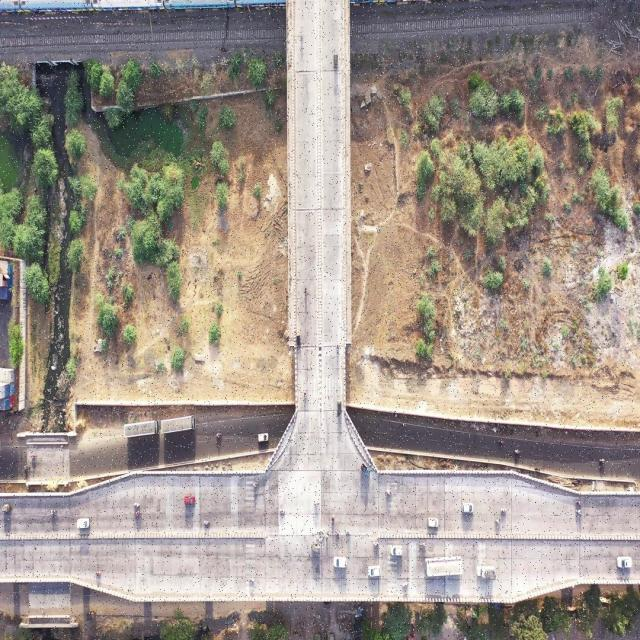3W: (310, 543, 321, 556), (332, 52, 338, 71), (337, 399, 344, 415), (0, 502, 11, 512), (86, 609, 95, 621), (296, 332, 302, 349), (322, 602, 331, 612)
Bus: (424, 557, 464, 578)
Cars: (617, 553, 634, 572), (366, 562, 382, 577), (333, 555, 348, 570), (76, 516, 90, 530), (390, 544, 404, 558), (461, 503, 475, 516), (184, 494, 196, 506), (428, 517, 439, 530), (257, 433, 270, 443)
LCV: (476, 564, 497, 583), (360, 460, 372, 479)
M2W: (596, 454, 608, 466), (278, 507, 288, 518), (400, 580, 410, 589), (22, 463, 32, 471), (303, 388, 309, 401), (494, 517, 502, 526), (513, 447, 521, 456), (304, 284, 310, 296), (28, 453, 38, 460), (501, 505, 508, 515), (496, 439, 506, 446), (334, 528, 340, 539), (299, 29, 304, 42), (95, 569, 102, 578), (252, 479, 259, 488), (372, 540, 379, 549), (575, 508, 584, 515), (248, 577, 256, 584), (419, 542, 426, 550), (50, 509, 59, 515), (345, 528, 351, 537), (386, 488, 392, 497), (336, 342, 340, 355), (133, 501, 140, 508), (313, 501, 320, 508), (134, 510, 142, 516), (574, 500, 583, 505), (331, 513, 335, 524), (203, 520, 210, 526), (215, 432, 222, 438)
MAV: (161, 415, 196, 434), (124, 420, 159, 436)
